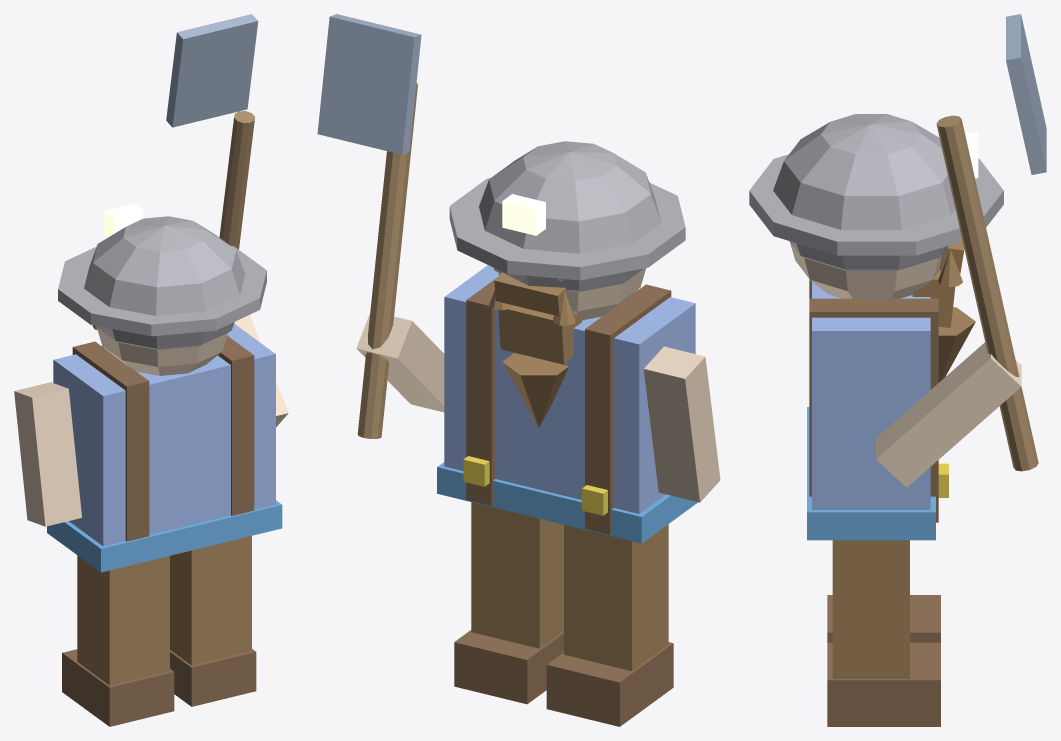
Rendered from miner.glb.
The picture shows the model from 3 angles, left to right: view 1: azimuth 30°, elevation 25°; view 2: azimuth 150°, elevation 25°; view 3: azimuth 270°, elevation 25°; orthographic projection. The views are drawn at different scales.
Parts seen in each view (by area): view 1: miner; view 2: miner; view 3: miner.
Part boxes in pixels (bbox=[...]): miner: bbox=[14, 14, 288, 726]; miner: bbox=[317, 14, 720, 726]; miner: bbox=[749, 14, 1046, 726].
Size of the model in its own units: 1.47 by 3.05 by 1.15.
